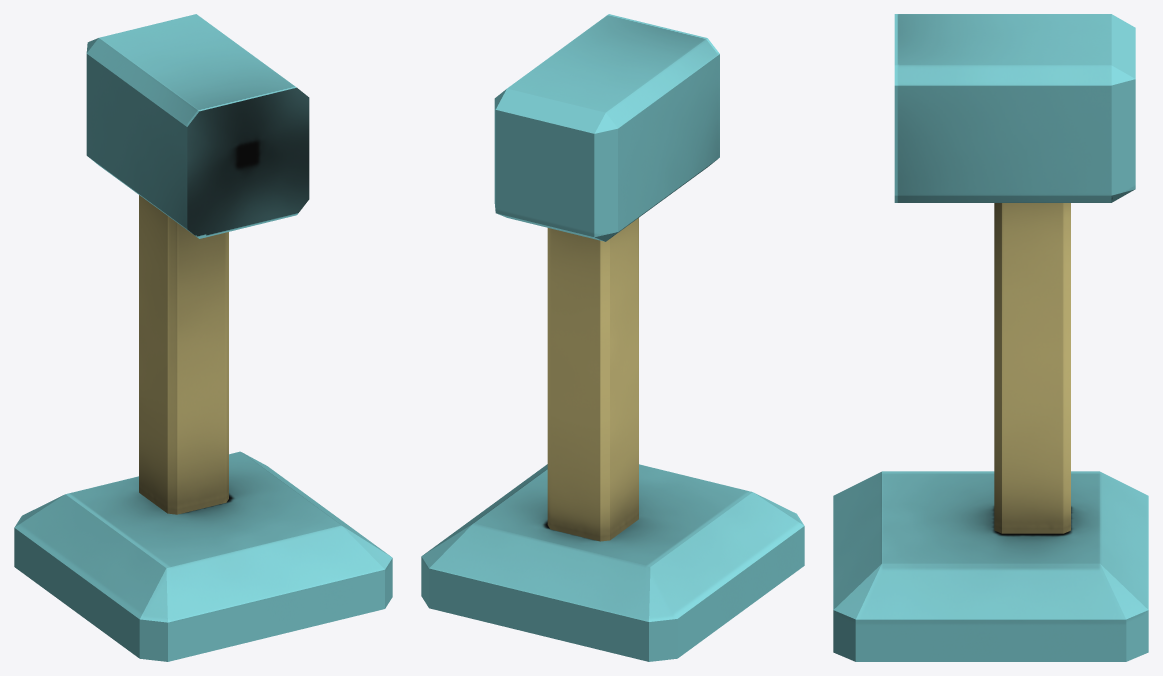
File: FanBase.fbx
3 renders of one model, left to right at view 1: azimuth 30°, elevation 25°; view 2: azimuth 150°, elevation 25°; view 3: azimuth 270°, elevation 25°, orthographic. The views are drawn at different scales.
Parts seen in each view (by area): view 1: FanBase; view 2: FanBase; view 3: FanBase.
Part boxes in pixels (<box>): FanBase: <box>14,14,392,661</box>; FanBase: <box>421,14,804,661</box>; FanBase: <box>833,14,1148,661</box>.
Bounding box in the file's own units: 45.44 × 88.44 × 45.44.
